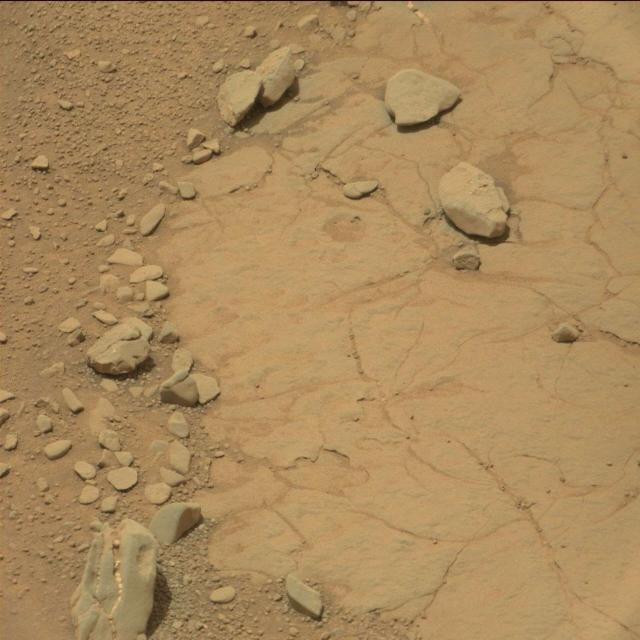stone: (71, 520, 158, 640)
white-sand: (0, 2, 640, 640)
